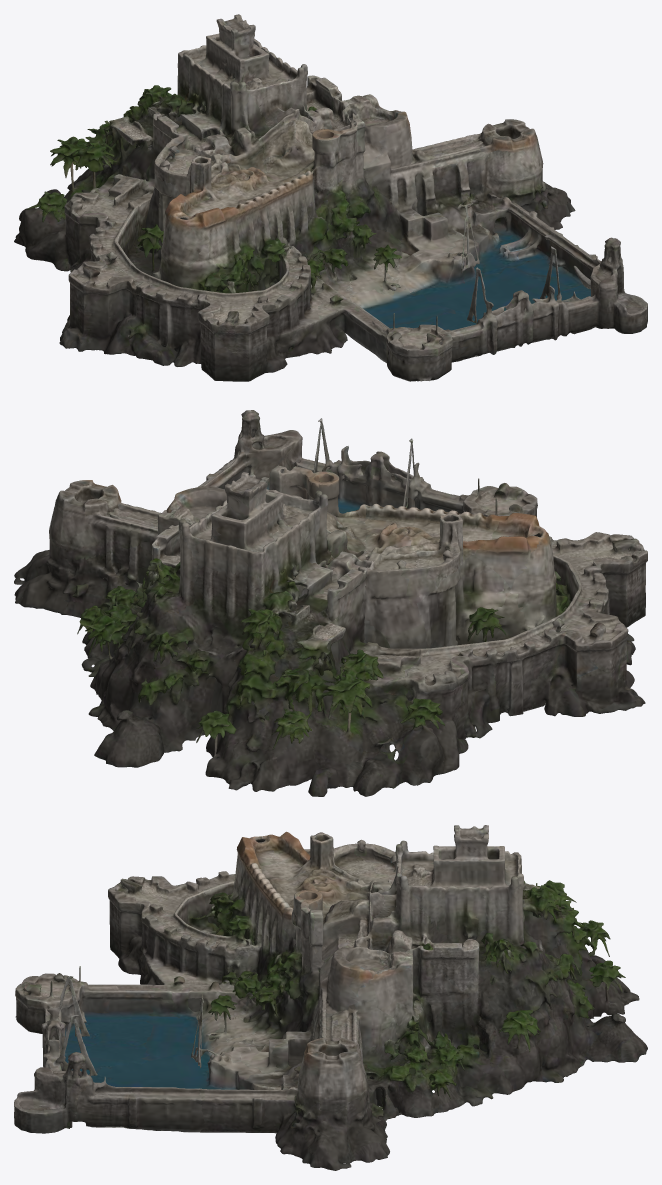
The model's file is fort6.glb.
The picture shows the model from 3 angles, top to bottom: view 1: azimuth 30°, elevation 25°; view 2: azimuth 150°, elevation 25°; view 3: azimuth 270°, elevation 25°; orthographic projection. The views are drawn at different scales.
Size of the model in its own units: 1.9 by 0.6887 by 1.89.
1 material, 1 textured.
